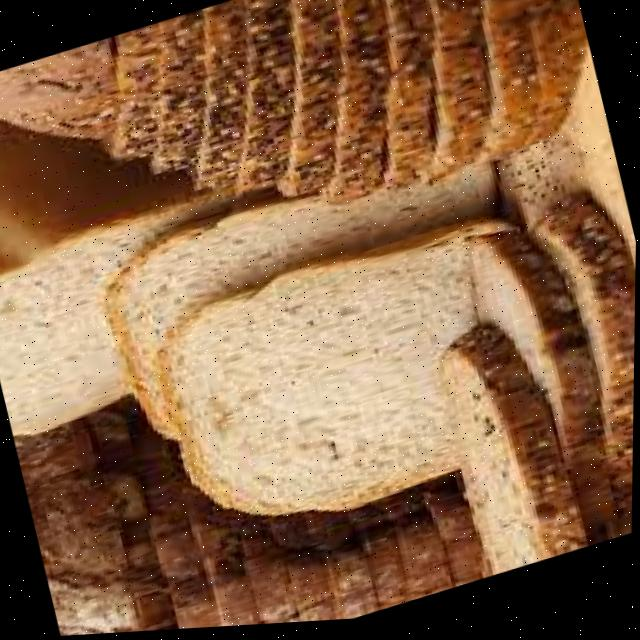Bread: (102, 168, 492, 439), (168, 227, 509, 517), (0, 117, 278, 434), (473, 236, 617, 532), (440, 330, 590, 580)
